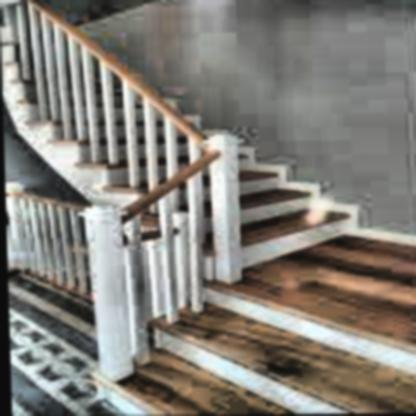stair: (139, 170, 416, 416)
